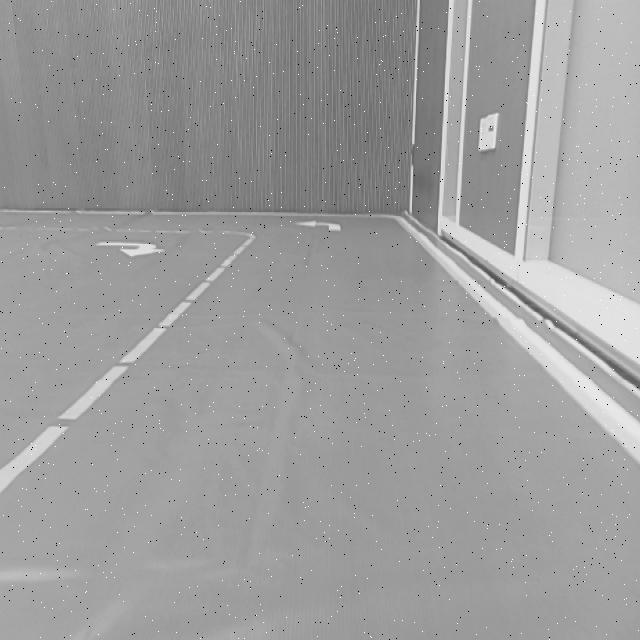left_lane: (0, 235, 256, 498)
right_lane: (396, 215, 640, 465)
